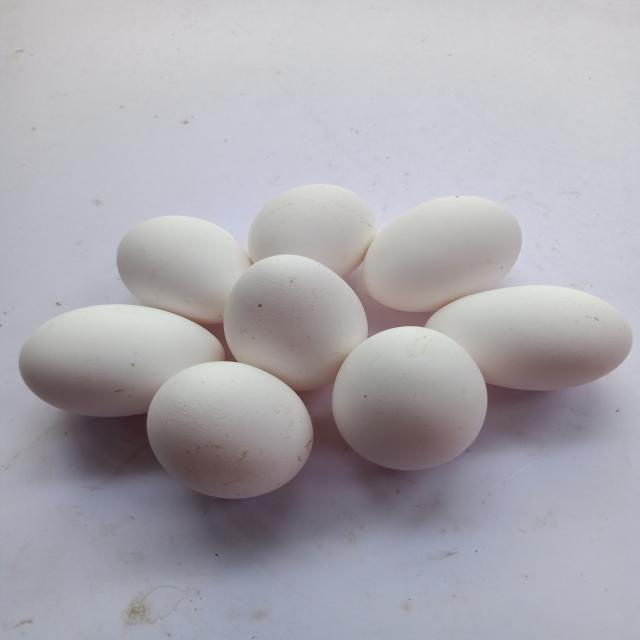Egg: (18, 304, 224, 417), (146, 362, 312, 499), (332, 327, 487, 471), (426, 285, 633, 391), (223, 255, 368, 391), (363, 196, 522, 312), (116, 216, 252, 324), (248, 184, 376, 277)
